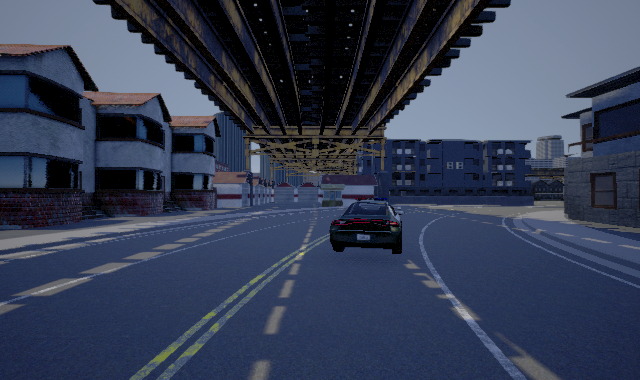vehicle: (329, 198, 405, 254)
